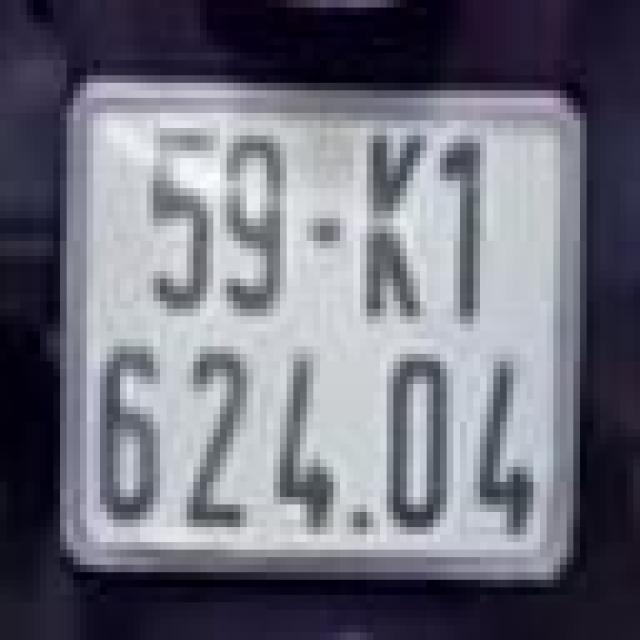0: (377, 339, 463, 557)
1: (430, 120, 510, 316)
2: (167, 335, 260, 538)
4: (270, 335, 343, 538), (476, 346, 536, 534)
5: (140, 109, 227, 320)
6: (90, 316, 163, 535)
9: (224, 113, 304, 316)
K: (354, 124, 434, 335)
